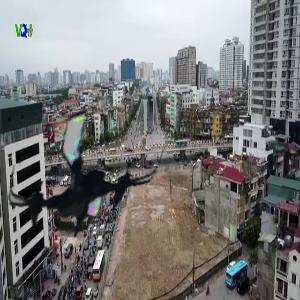drone: (8, 94, 164, 250)
